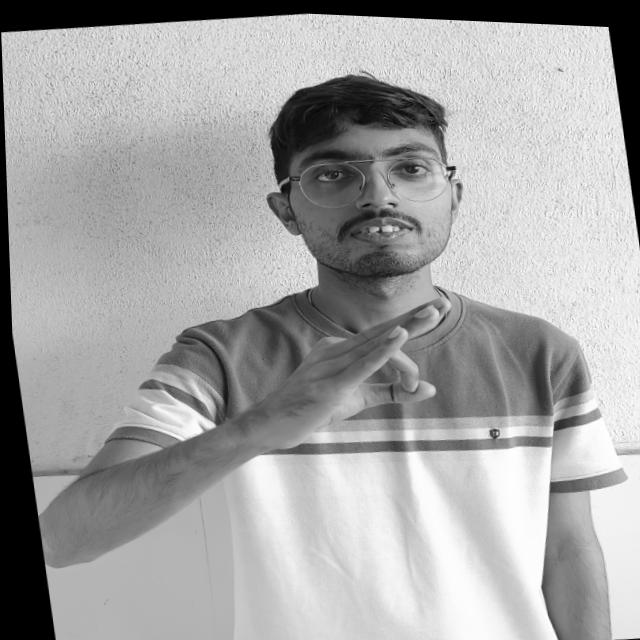Superb: (195, 269, 536, 487)
